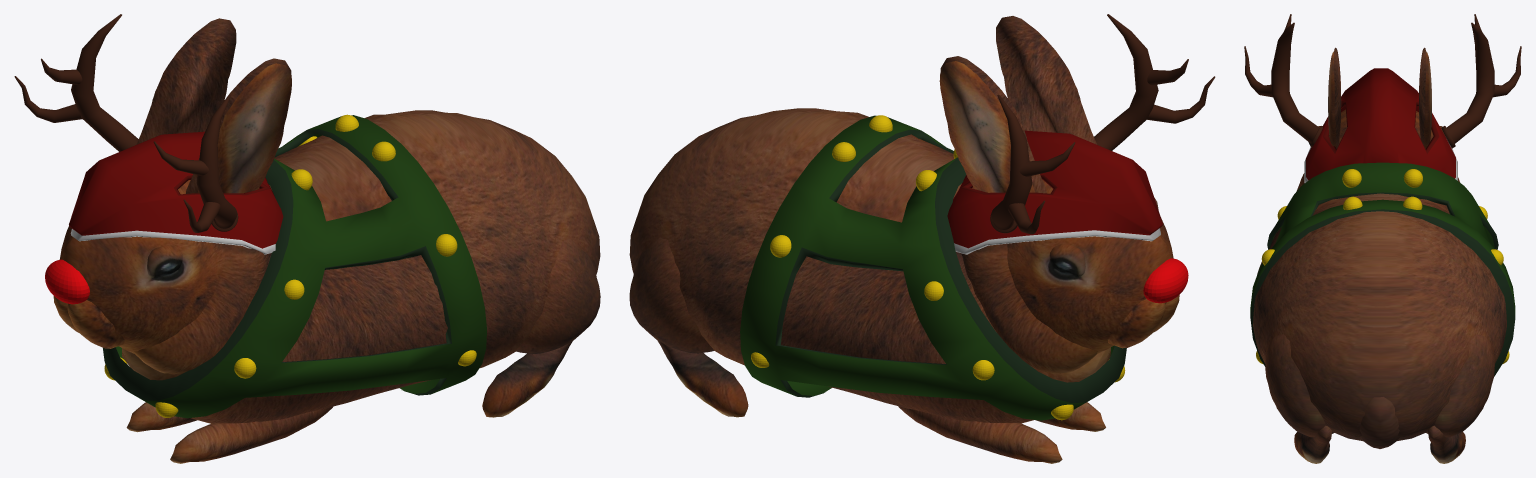
The model's file is rabbit christmas.fbx.
3 views of the same model, side by side, from view 1: azimuth 30°, elevation 25°; view 2: azimuth 150°, elevation 25°; view 3: azimuth 270°, elevation 25° (orthographic). The views are drawn at different scales.
Visible parts, largest first — view 1: model, Cylinder.001, Cube, Cylinder, Sphere.001, Sphere; view 2: model, Cylinder.001, Cube, Cylinder, Sphere.001, Sphere; view 3: model, Cylinder.001, Cube, Cylinder, Sphere.001.
Boxes of the visible parts, bbox=[...] form: model: bbox=[53, 18, 600, 463]; Cylinder.001: bbox=[103, 115, 486, 418]; Cube: bbox=[69, 131, 283, 254]; Cylinder: bbox=[14, 14, 238, 232]; Sphere.001: bbox=[104, 114, 476, 417]; Sphere: bbox=[45, 259, 89, 304]; model: bbox=[629, 16, 1179, 463]; Cylinder.001: bbox=[740, 115, 1126, 420]; Cube: bbox=[947, 130, 1162, 254]; Cylinder: bbox=[990, 14, 1215, 234]; Sphere.001: bbox=[751, 115, 1125, 420]; Sphere: bbox=[1143, 258, 1188, 303]; model: bbox=[1253, 47, 1506, 463]; Cylinder.001: bbox=[1250, 162, 1515, 376]; Cube: bbox=[1304, 68, 1457, 182]; Cylinder: bbox=[1244, 14, 1521, 148]; Sphere.001: bbox=[1256, 169, 1509, 363].
Bounding box in the file's own units: 16584 × 11590 × 9017.
Materials: 9 (1 with a texture image).
